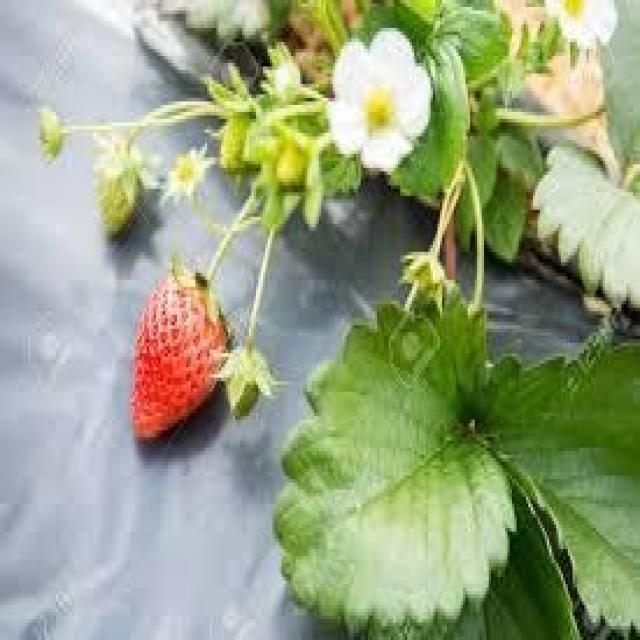strawberry: (130, 277, 228, 439), (97, 147, 140, 236)
